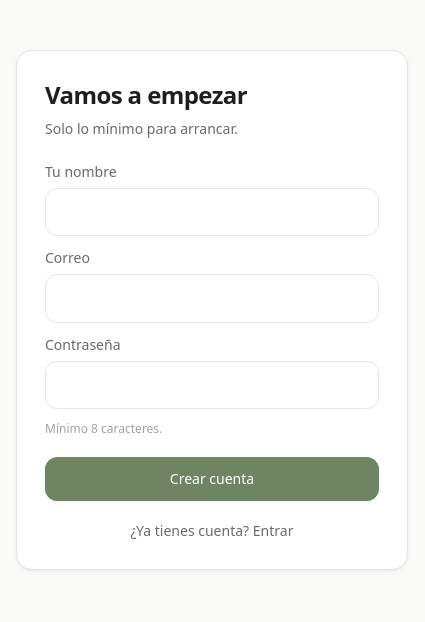
Test case: sign-up form › explains a short password in Spanish instead of disabling the button
In the field labelled "Tu nombre": (212, 212) [45,188,379,236], type "Ana"
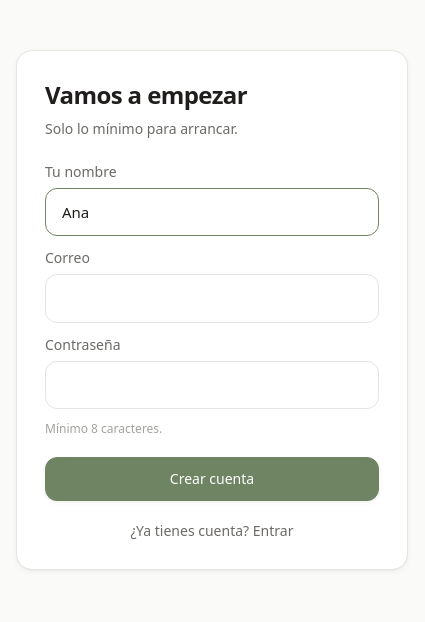
In the field labelled "Correo": (212, 299) [45,274,379,323], type "ana@correo.com"
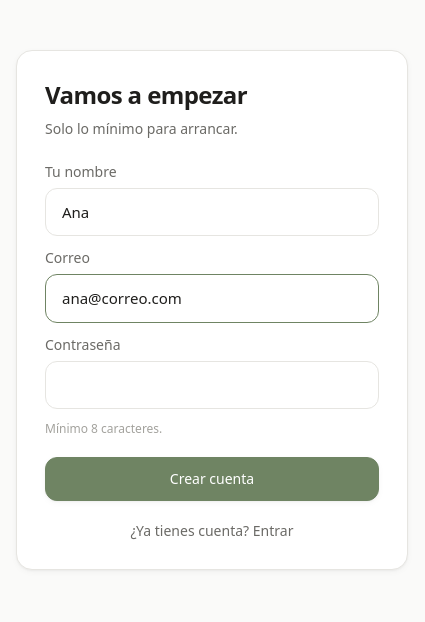
In the password field labelled "Contraseña": (212, 385) [45,361,379,409], type "corta"
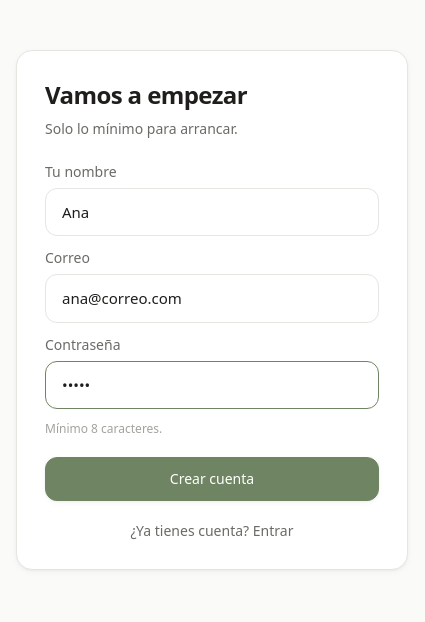
Click the button "Crear cuenta": (212, 479) [45,457,379,501]
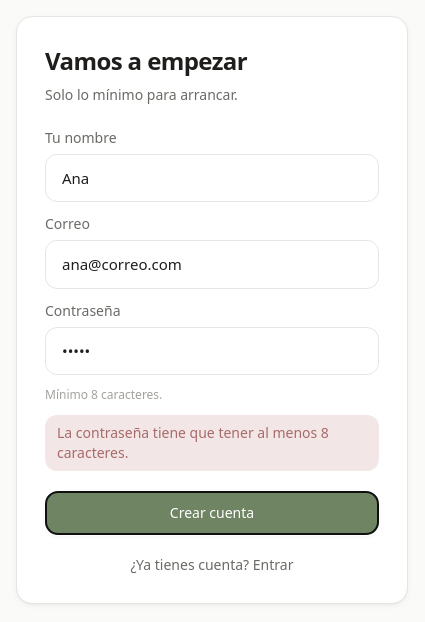
Result: the text "La contraseña tiene que tener al menos 8 caracteres." is shown at [45,415,379,471]
